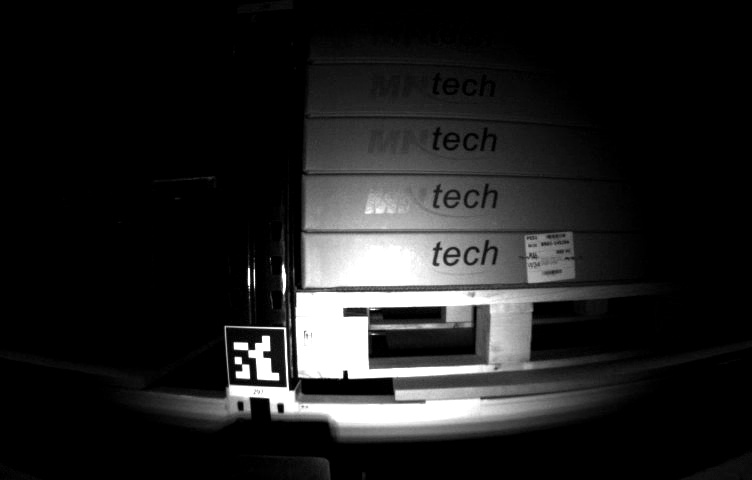True Barcode: (520, 232, 578, 286)
